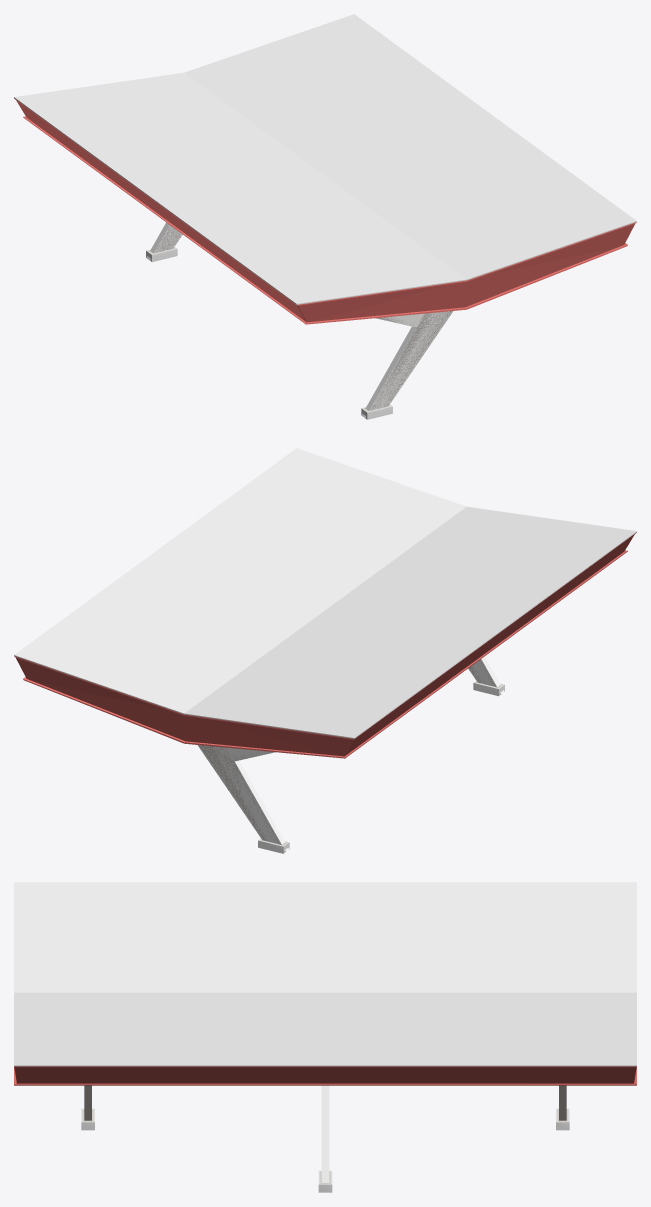
Rendered from s_fuel_structure_02.dae.
The picture shows the model from 3 angles, top to bottom: view 1: azimuth 30°, elevation 25°; view 2: azimuth 150°, elevation 25°; view 3: azimuth 270°, elevation 25°; orthographic projection. The views are drawn at different scales.
Visible parts, largest first — view 1: s_fuel_structure_02_L3000, Colmesh_s_fuel_structure_02-1, s_fuel_structure_02_L800, s_fuel_structure_02_L400; view 2: s_fuel_structure_02_L3000, Colmesh_s_fuel_structure_02-1, s_fuel_structure_02_L800, s_fuel_structure_02_L400; view 3: s_fuel_structure_02_L3000, Colmesh_s_fuel_structure_02-1, s_fuel_structure_02_L400.
Boxes of the visible parts, x1,y1,x2,y2 form: s_fuel_structure_02_L3000: [14, 14, 636, 419]; Colmesh_s_fuel_structure_02-1: [16, 100, 634, 409]; s_fuel_structure_02_L800: [146, 225, 451, 419]; s_fuel_structure_02_L400: [155, 226, 452, 410]; s_fuel_structure_02_L3000: [14, 448, 636, 853]; Colmesh_s_fuel_structure_02-1: [16, 534, 634, 839]; s_fuel_structure_02_L800: [199, 659, 504, 853]; s_fuel_structure_02_L400: [198, 661, 494, 841]; s_fuel_structure_02_L3000: [14, 882, 636, 1192]; Colmesh_s_fuel_structure_02-1: [14, 1067, 636, 1083]; s_fuel_structure_02_L400: [84, 1085, 566, 1120].
Size of the model in its own units: 14.6 by 21 by 6.73.
